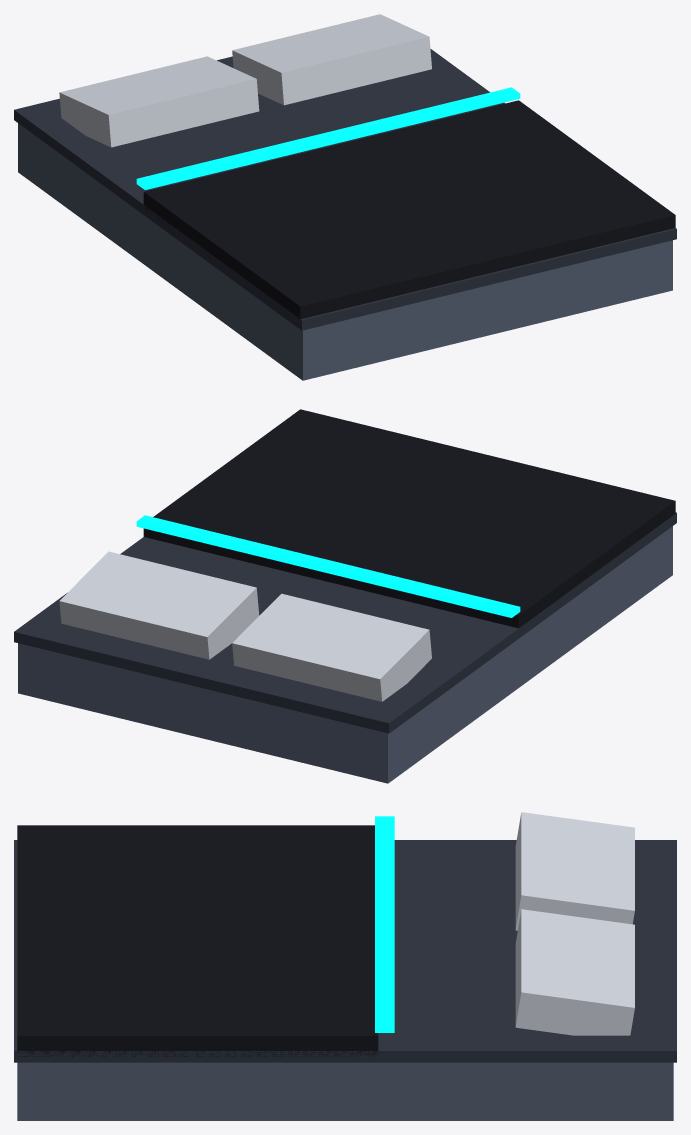
File: mattress_cool_0.glb
3 views of the same model, one above another, from view 1: azimuth 30°, elevation 25°; view 2: azimuth 150°, elevation 25°; view 3: azimuth 270°, elevation 25° (orthographic). The views are drawn at different scales.
Size of the model in its own units: 1.52 by 0.3855 by 2.02.
